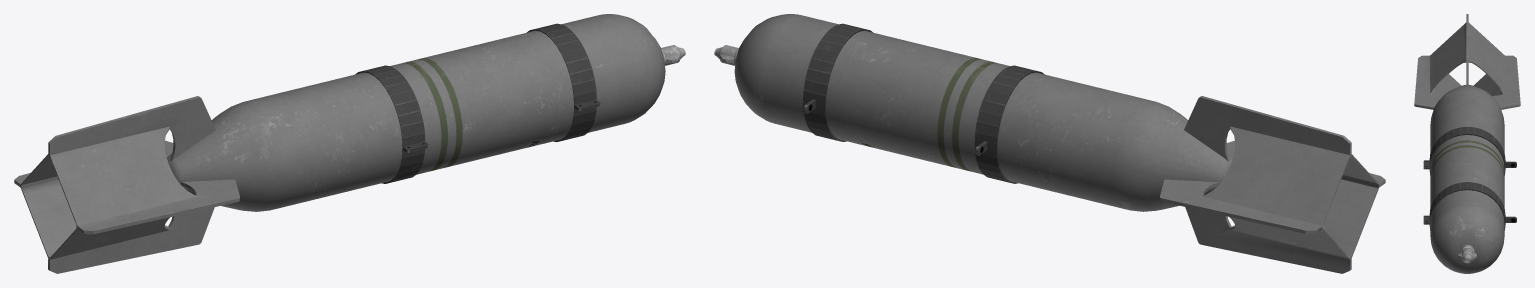
Rendered from Bombe.obj.
3 renders of one model, left to right at view 1: azimuth 30°, elevation 25°; view 2: azimuth 150°, elevation 25°; view 3: azimuth 270°, elevation 25°, orthographic. The views are drawn at different scales.
Visible parts, largest first — view 1: Cylinder.000_Cylinder.001; view 2: Cylinder.000_Cylinder.001; view 3: Cylinder.000_Cylinder.001.
Boxes of the visible parts, x1,y1,x2,y2 form: Cylinder.000_Cylinder.001: (14, 14, 685, 273); Cylinder.000_Cylinder.001: (714, 14, 1385, 273); Cylinder.000_Cylinder.001: (1414, 14, 1520, 273).
Bounding box in the file's own units: 54.01 × 11.97 × 11.89.
